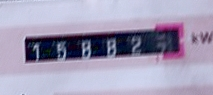1: (31, 41, 41, 60)
2: (130, 34, 143, 54)
5: (53, 40, 68, 59)
7: (154, 40, 166, 52)
8: (104, 35, 118, 57), (80, 37, 93, 58)
screen: (18, 21, 189, 69)
